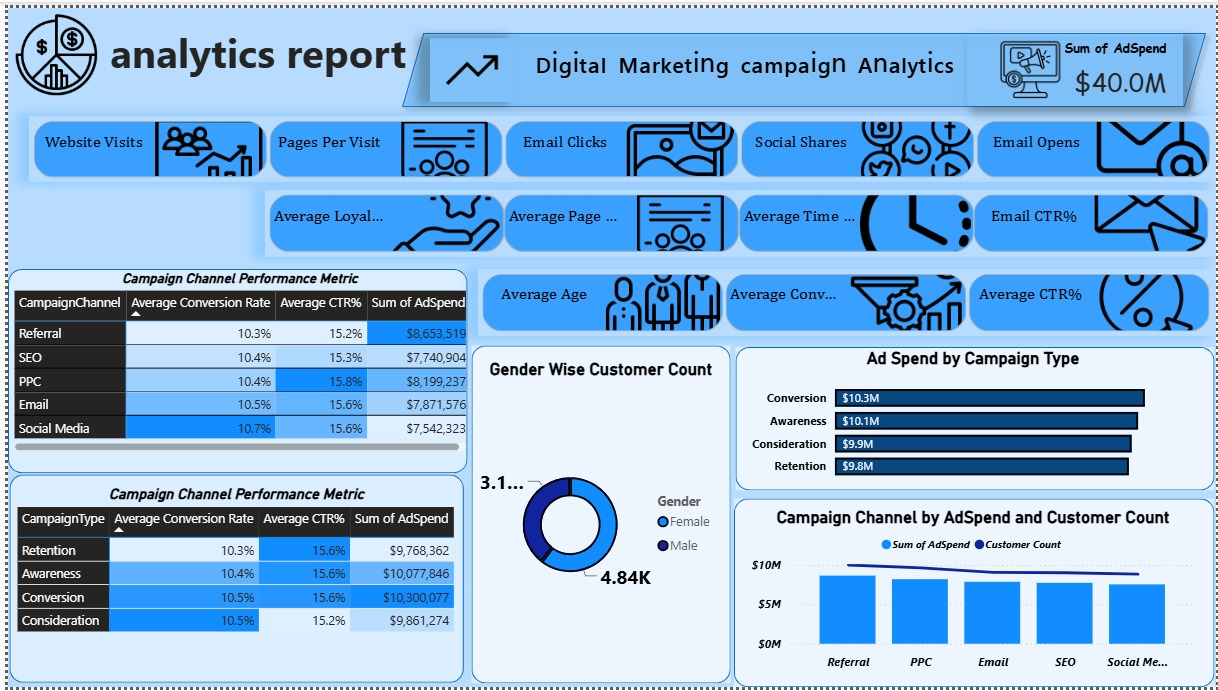

The dashboard page shown, as its layout file describes it:
{"tool":"powerbi","page":{"name":"Page 1","canvas":[1280,720],"ordinal":0},"visuals":[{"type":"shape","box":[408.3,17.6,870.7,96.6],"z":0},{"type":"textbox","box":[547.8,31.3,467.8,67.8],"z":1000},{"type":"image","box":[447,31.3,90.4,67.8],"z":2000},{"type":"image","box":[0,0,102.6,99.1],"z":3000},{"type":"textbox","box":[102.6,12.2,335.7,74.8],"z":4000},{"type":"cardVisual","fields":{"Data":["Sum(digital_marketing_campaign_dataset.AdSpend)"]},"box":[1015.7,26.1,229.6,78.3],"z":5000},{"type":"image","box":[1036.5,27.8,93.9,76.5],"z":6000},{"type":"cardVisual","fields":{"Data":["Sum(digital_marketing_campaign_dataset.WebsiteVisits)","Sum(digital_marketing_campaign_dataset.PagesPerVisit)","Sum(digital_marketing_campaign_dataset.EmailClicks)","Sum(digital_marketing_campaign_dataset.SocialShares)","Sum(digital_marketing_campaign_dataset.EmailOpens)"]},"box":[22,114.1,1258.5,70.2],"z":7000},{"type":"cardVisual","fields":{"Data":[".measure.Average Loyalty Points",".measure.Average Page Visitor",".measure.Average Time On Site",".measure.Email CTR%"]},"box":[271.3,193,1008.7,71.3],"z":8000},{"type":"cardVisual","fields":{"Data":[".measure.Average Age",".measure.Average Conversion Rate",".measure.Average CTR%"]},"box":[497.4,276.5,782.6,71.3],"z":9000},{"type":"shape","box":[492.2,358.3,274.8,358.3],"z":10000},{"type":"donutChart","title":"Gender Wise Customer Count","fields":{"Category":["digital_marketing_campaign_dataset.Gender"],"Y":[".measure.Customer Count"]},"box":[497.6,371.7,262,330.7],"z":11000},{"type":"shape","box":[772.2,360,508,152],"z":12000},{"type":"clusteredBarChart","title":"Ad Spend by Campaign Type","fields":{"Category":["digital_marketing_campaign_dataset.CampaignType"],"Y":["Sum(digital_marketing_campaign_dataset.AdSpend)"]},"box":[782.6,361.7,481.7,149.6],"z":13000},{"type":"shape","box":[770.4,520,509.6,200],"z":14000},{"type":"lineClusteredColumnComboChart","title":" Campaign Channel by  AdSpend and Customer Count","fields":{"Category":["digital_marketing_campaign_dataset.CampaignChannel"],"Y":["Sum(digital_marketing_campaign_dataset.AdSpend)"],"Y2":[".measure.Customer Count"]},"box":[782.6,530.4,481.7,179.1],"z":15000},{"type":"shape","box":[0,276.6,487.3,216.6],"z":16000},{"type":"pivotTable","title":"Campaign Channel Performance Metric","fields":{"Rows":["digital_marketing_campaign_dataset.CampaignChannel"],"Values":[".measure.Average Conversion Rate",".measure.Average CTR%","Sum(digital_marketing_campaign_dataset.AdSpend)"]},"box":[1.7,278.6,488.7,196.5],"z":17000},{"type":"shape","box":[1.4,494.2,481.7,220.9],"z":18000},{"type":"pivotTable","title":"Campaign Channel Performance Metric","fields":{"Values":[".measure.Average Conversion Rate",".measure.Average CTR%","Sum(digital_marketing_campaign_dataset.AdSpend)"],"Rows":["digital_marketing_campaign_dataset.CampaignType"]},"box":[4.9,506.3,474.8,200],"z":19000}]}

Visuals, with their boxes in screenshot pixels (x1, y1, x2, y2), scaled from the page's 1280x720 canvas onto the 1218x691 screenshot:
shape: (389,17,1217,110)
textbox: (521,30,966,95)
image: (425,30,511,95)
image: (0,0,98,95)
textbox: (98,12,417,83)
cardVisual - Sum(digital_marketing_campaign_dataset.AdSpend): (967,25,1185,100)
image: (986,27,1076,100)
cardVisual - Sum(digital_marketing_campaign_dataset.WebsiteVisits) x Sum(digital_marketing_campaign_dataset.PagesPerVisit): (21,110,1217,177)
cardVisual - .measure.Average Loyalty Points x .measure.Average Page Visitor: (258,185,1217,254)
cardVisual - .measure.Average Age x .measure.Average Conversion Rate: (473,265,1217,334)
shape: (468,344,730,688)
"Gender Wise Customer Count" donutChart: (473,357,723,674)
shape: (735,346,1217,491)
"Ad Spend by Campaign Type" clusteredBarChart: (745,347,1203,491)
shape: (733,499,1217,690)
" Campaign Channel by  AdSpend and Customer Count" lineClusteredColumnComboChart: (745,509,1203,681)
shape: (0,265,464,473)
"Campaign Channel Performance Metric" pivotTable: (2,267,467,456)
shape: (1,474,460,686)
"Campaign Channel Performance Metric" pivotTable: (5,486,456,678)
